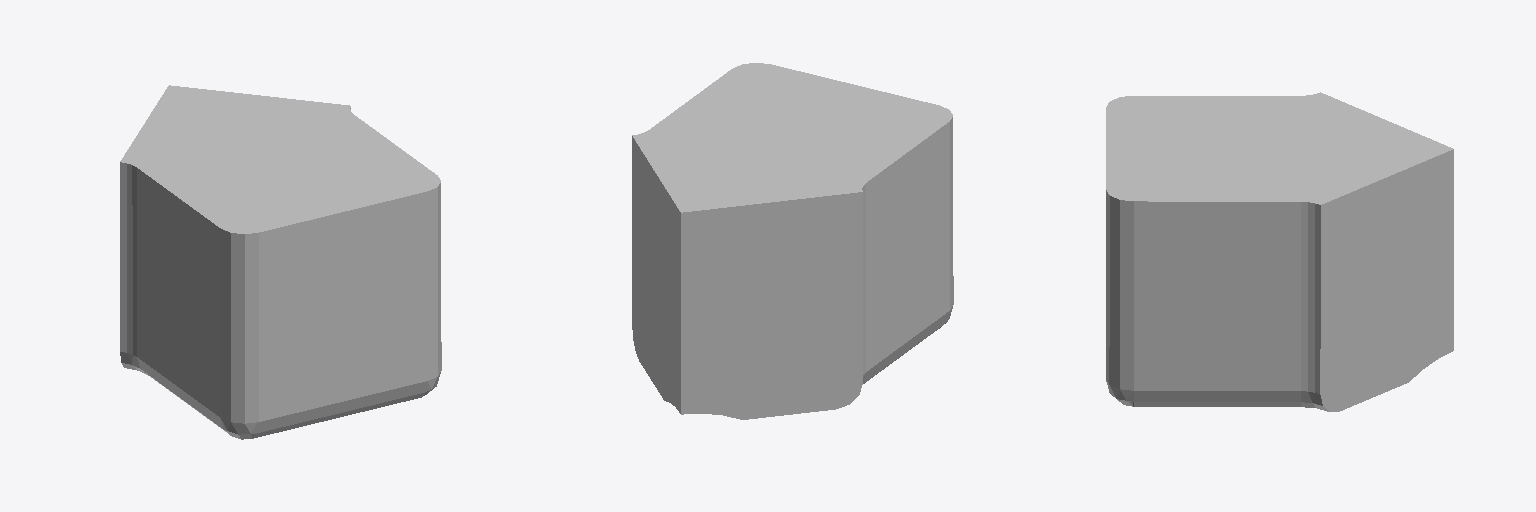
Rendered from DPadUp.obj.
3 renders of one model, left to right at view 1: azimuth 30°, elevation 25°; view 2: azimuth 150°, elevation 25°; view 3: azimuth 270°, elevation 25°, orthographic.
Visible parts, largest first — view 1: DPadUp; view 2: DPadUp; view 3: DPadUp.
Boxes of the visible parts, x1=… form: DPadUp: x1=120, y1=85, x2=441, y2=439; DPadUp: x1=632, y1=63, x2=953, y2=419; DPadUp: x1=1106, y1=92, x2=1453, y2=411.
Size of the model in its own units: 9.59 by 8.52 by 12.51.